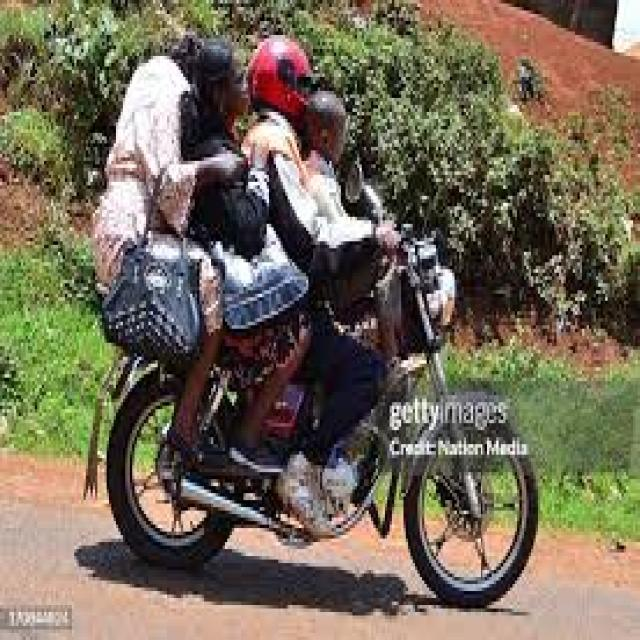bodaboda: (78, 133, 596, 635)
